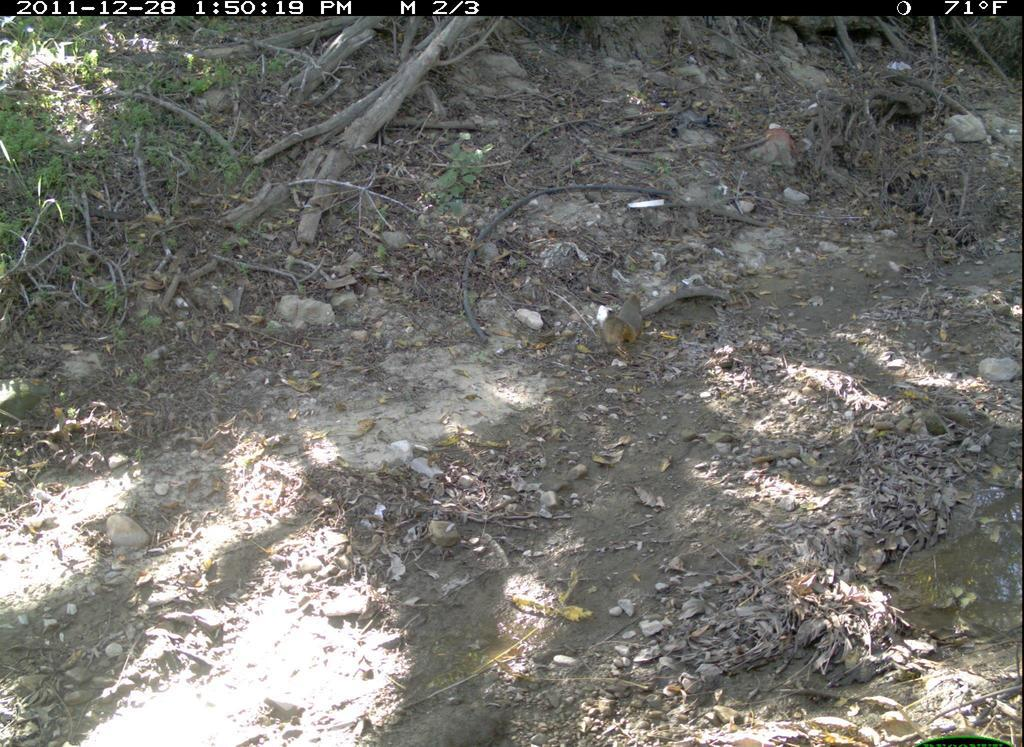squirrel: (585, 290, 656, 363)
